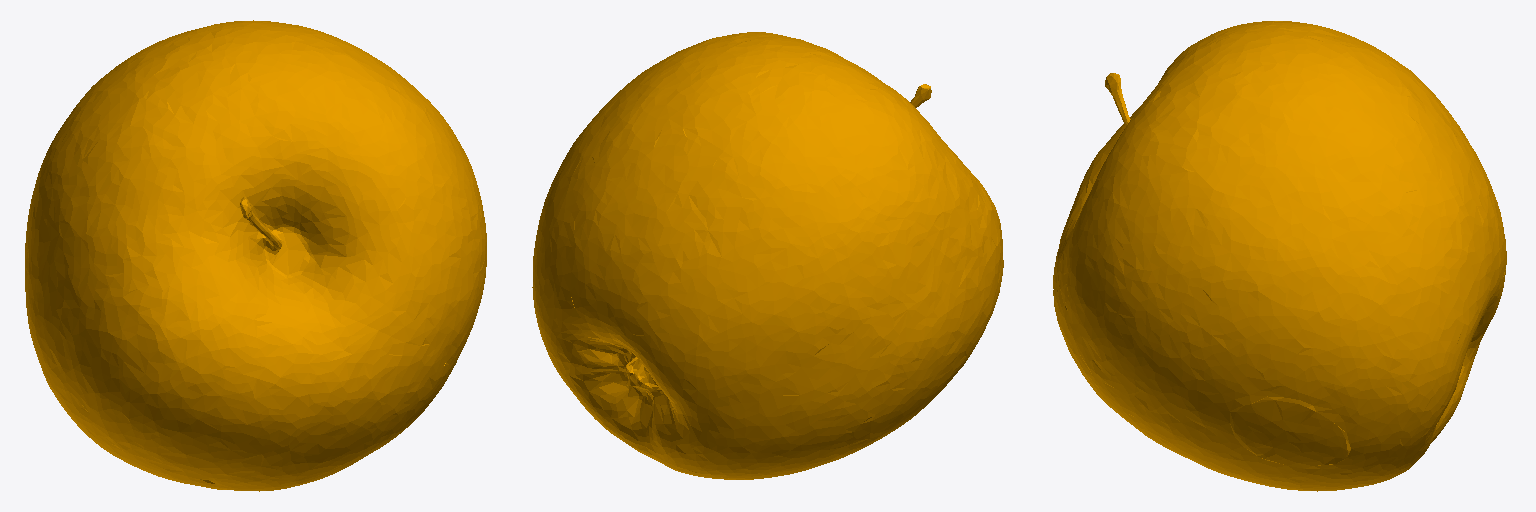
URDF robot description (Apple):
<?xml version="1.0"?>
<robot name="Apple">
  <link name="base_link">
    <inertial>
      <origin xyz="-0.000008 0.000100 -0.000003" rpy="0 0 0" />
      <mass value="0.034101" />
      <inertia ixx="0.00000542" ixy="-0.00000015" ixz="-0.00000004"
               iyy="0.00000579" iyz="-0.00000002" izz="0.00000556" />
    </inertial>
    <visual>
      <geometry><mesh filename="Apple.stl" scale="1.0 1.0 1.0" /></geometry>
    </visual>
    <collision>
      <geometry><mesh filename="Apple_col.obj" scale="1.0 1.0 1.0" /></geometry>
    </collision>
    <contact>
      <lateral_friction value="1.0"/>
    </contact>
  </link>
</robot>

--- Render facts (derived) ---
The picture shows the robot from 3 angles, left to right: view 1: azimuth 30°, elevation 25°; view 2: azimuth 150°, elevation 25°; view 3: azimuth 270°, elevation 25°; orthographic projection.
Robot: Apple — 1 links, 0 joints (none); root link base_link; default pose: all joints at 0.
Links seen in each view (by area): view 1: base_link; view 2: base_link; view 3: base_link.
Boxes of the visible links, bbox=[...] form: base_link: bbox=[25, 20, 486, 491]; base_link: bbox=[532, 32, 1003, 479]; base_link: bbox=[1053, 21, 1506, 491].
Size in the robot's own frame: 0.0409 by 0.0398 by 0.0407 metres.
1 mesh visuals loaded from 1 distinct referenced files (1 binary STL).
